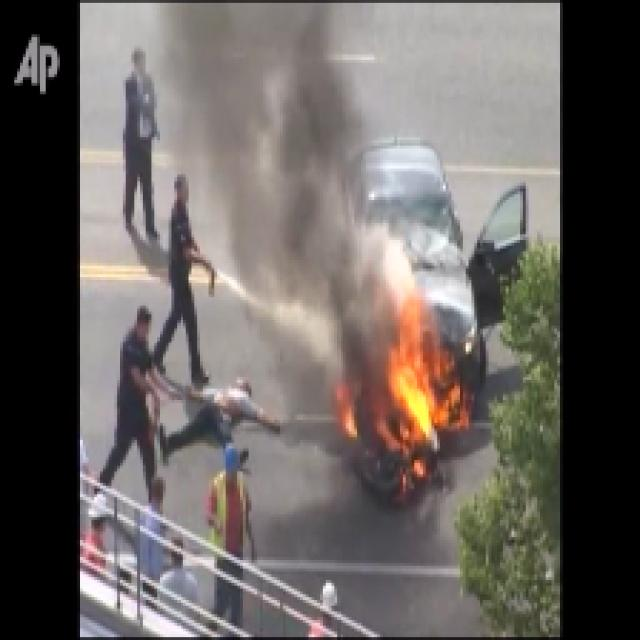fire: (383, 309, 455, 465)
smoke: (158, 5, 396, 301)
